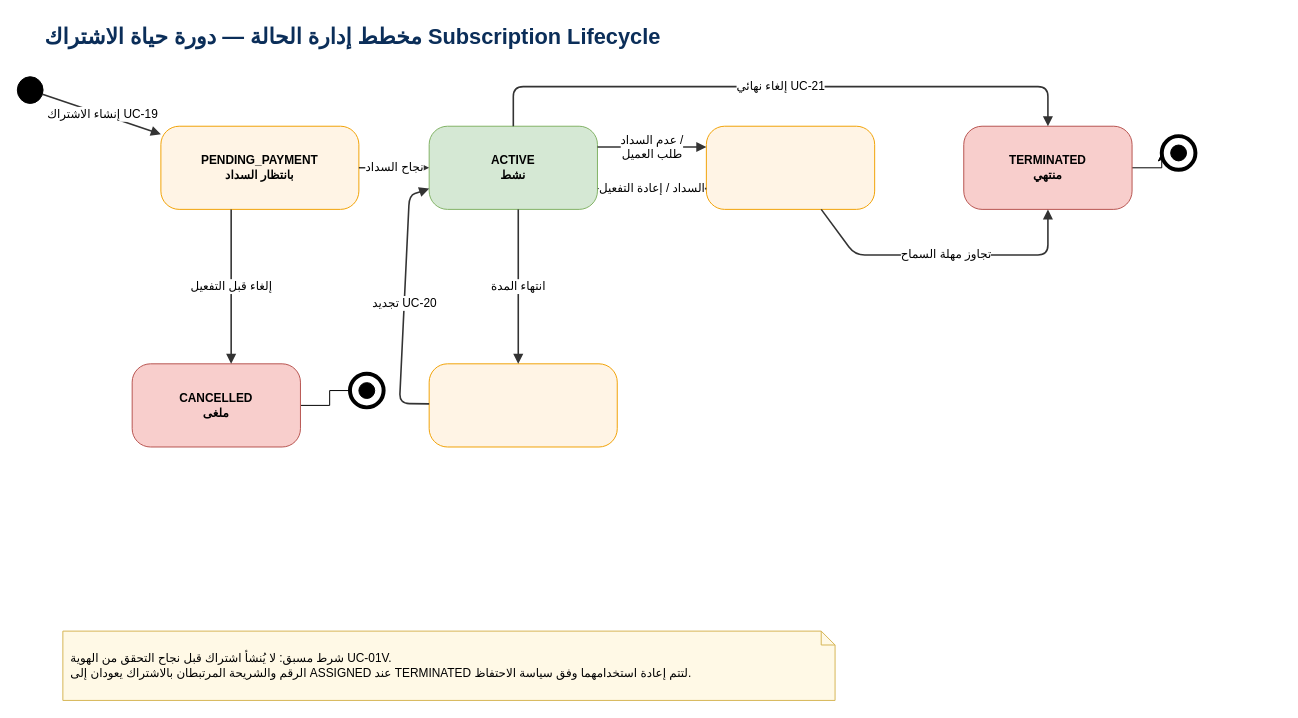
Some shapes in this 1298 by 718 pixel diagram are drawn without their labels. Here are the shapes that lost their labels. From the top down, the centre of each, then its label:
the point at 790,167: SUSPENDED موقوف
the point at 522,405: EXPIRED منتهي الصلاحية
